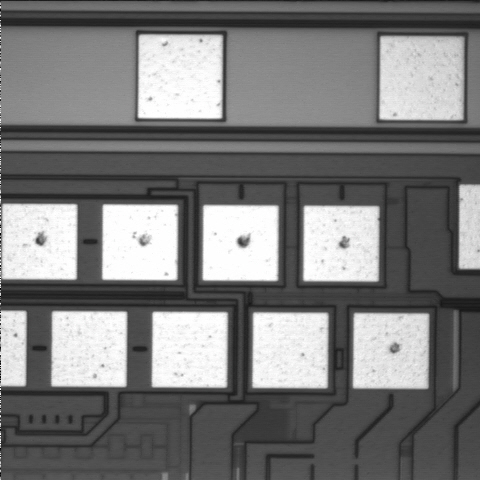pad: (138, 35, 222, 119), (380, 37, 463, 120), (102, 204, 178, 280), (202, 205, 278, 281), (51, 311, 127, 387), (152, 312, 228, 388), (252, 312, 328, 388), (353, 313, 429, 389), (2, 204, 77, 280), (303, 206, 379, 281)
